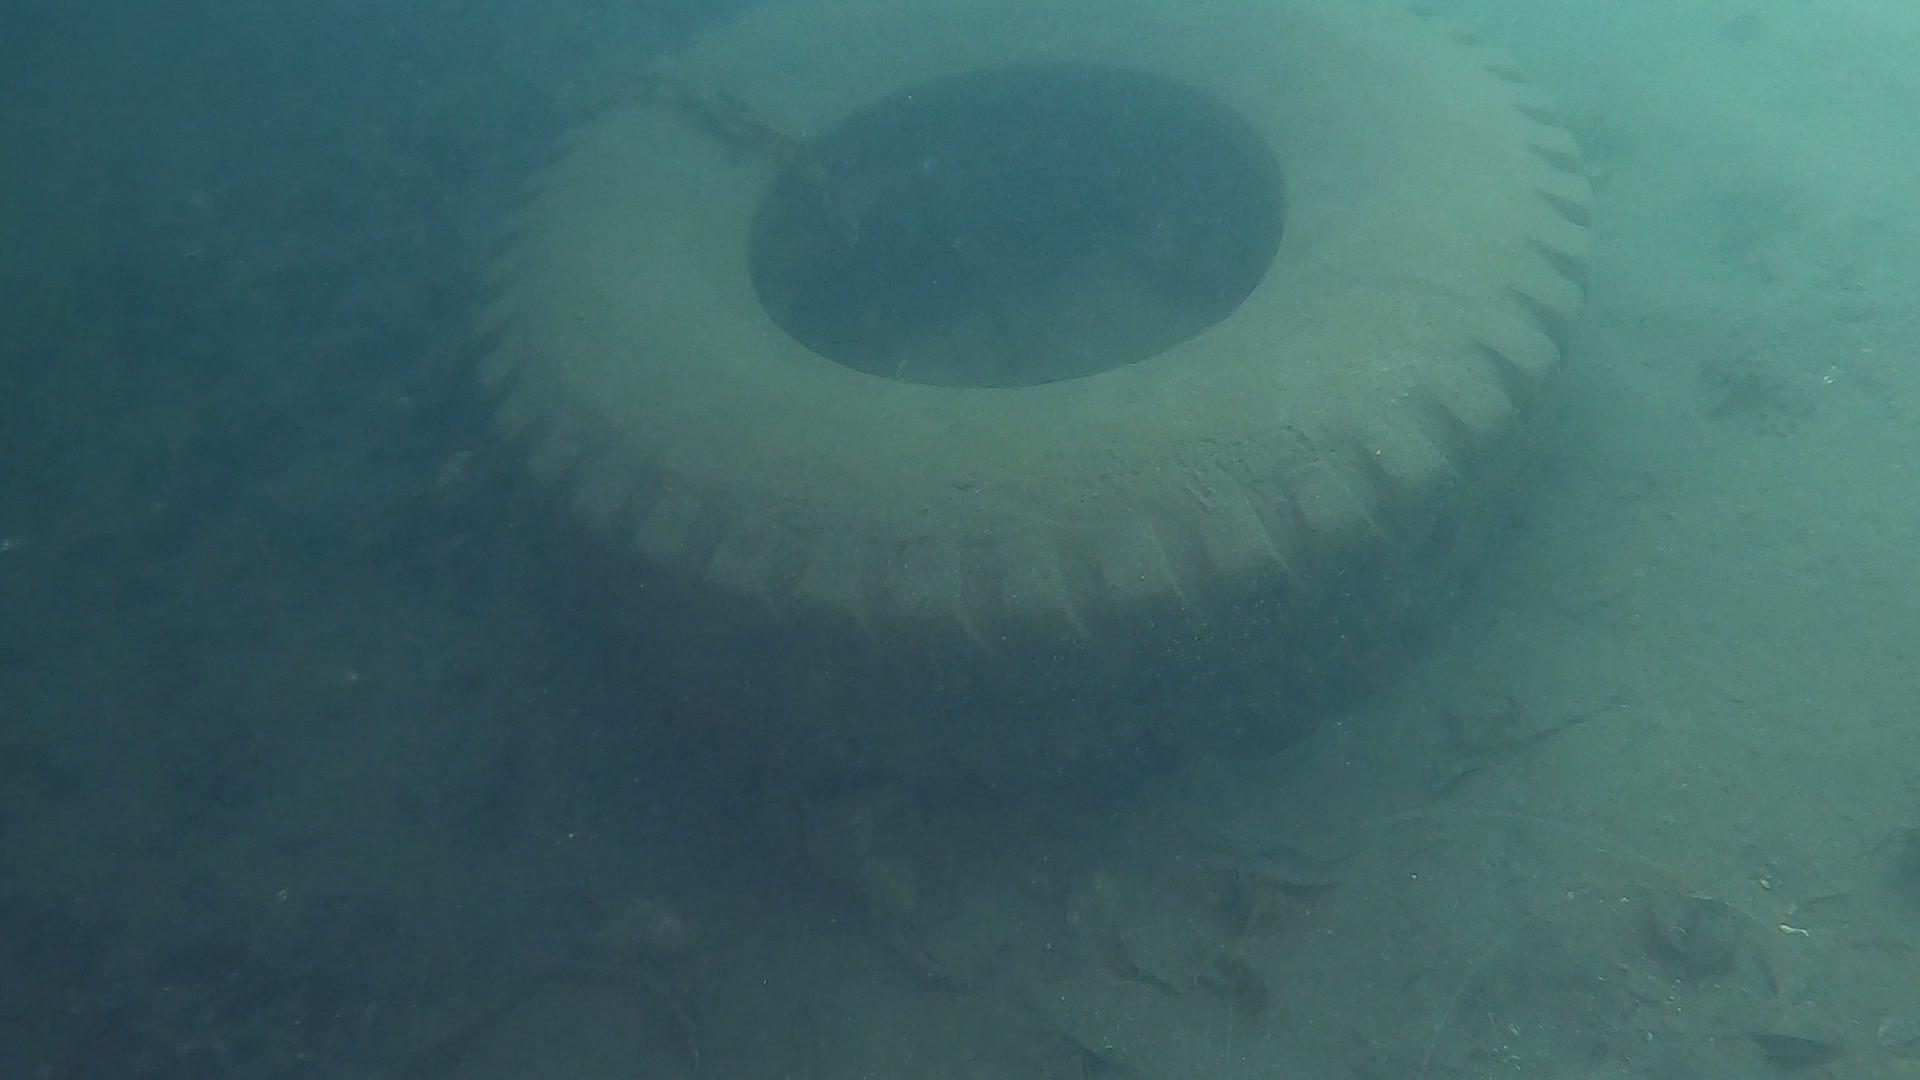tire: (469, 0, 1601, 707)
